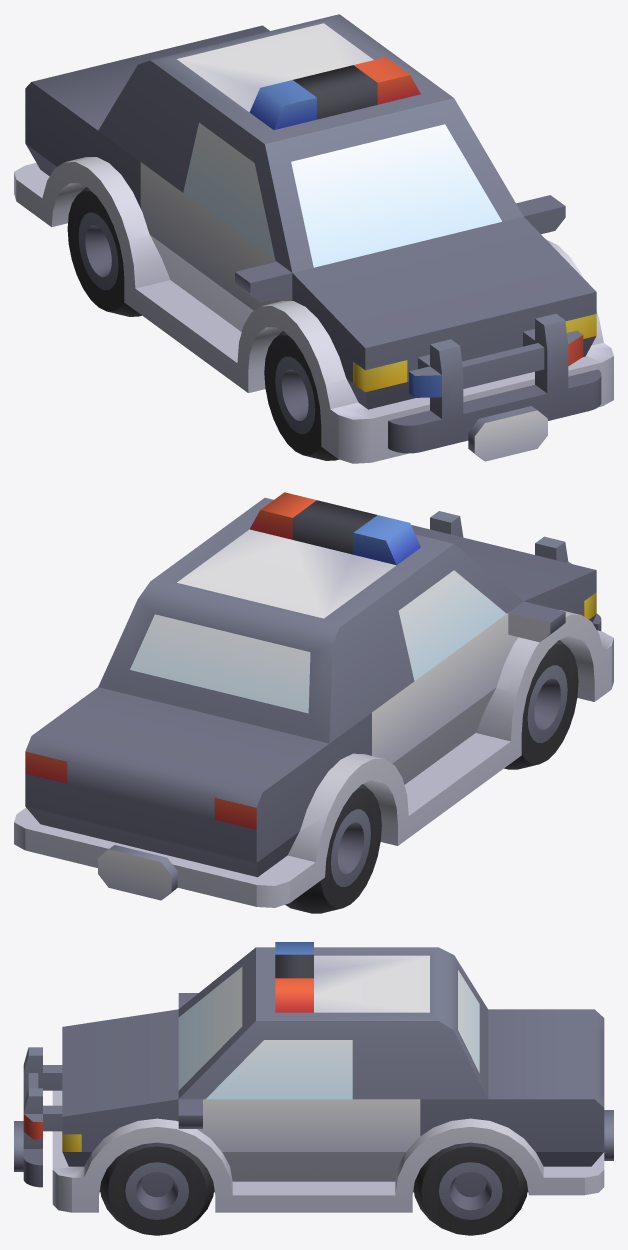
The model's file is police.fbx.
3 renders of one model, top to bottom at view 1: azimuth 30°, elevation 25°; view 2: azimuth 150°, elevation 25°; view 3: azimuth 270°, elevation 25°, orthographic. The views are drawn at different scales.
Parts seen in each view (by area): view 1: body, grill, wheel-front-right, wheel-back-right; view 2: body, wheel-back-right, wheel-front-right, grill; view 3: body, wheel-back-left, wheel-front-left, grill.
Boxes of the visible parts, x1,y1,x2,y2 form: body: [14, 14, 613, 463]; grill: [388, 313, 601, 461]; wheel-front-right: [264, 331, 339, 460]; wheel-back-right: [67, 187, 141, 316]; body: [14, 492, 613, 907]; wheel-back-right: [285, 784, 381, 913]; wheel-front-right: [504, 640, 578, 769]; grill: [430, 511, 601, 630]; body: [52, 942, 613, 1212]; wheel-back-left: [413, 1142, 527, 1235]; wheel-front-left: [100, 1142, 214, 1235]; grill: [14, 1047, 62, 1187].
Size of the model in its own units: 150 by 130 by 310.
Materials: 1 (1 with a texture image).
